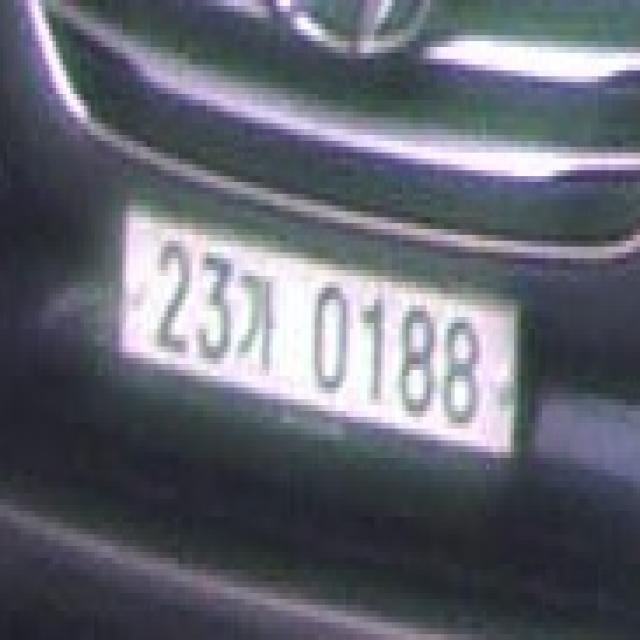0: (313, 277, 353, 399)
1: (359, 284, 392, 408)
2: (150, 234, 194, 356)
3: (198, 243, 237, 370)
8: (444, 310, 490, 436), (397, 298, 442, 425)
ga: (240, 267, 287, 382)
license_plate: (121, 211, 520, 457)
